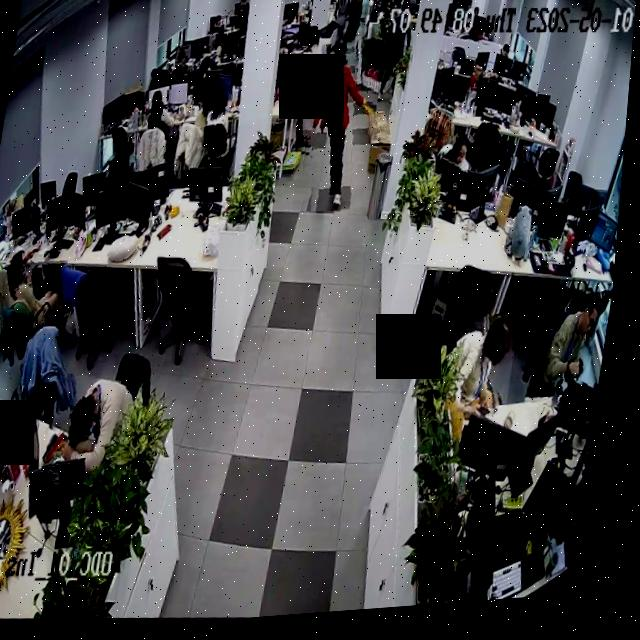person: (295, 40, 388, 221), (50, 372, 144, 484), (534, 293, 607, 420), (450, 318, 526, 430), (0, 246, 78, 346), (135, 91, 178, 175), (202, 89, 235, 159), (440, 141, 481, 182), (464, 65, 488, 108)
